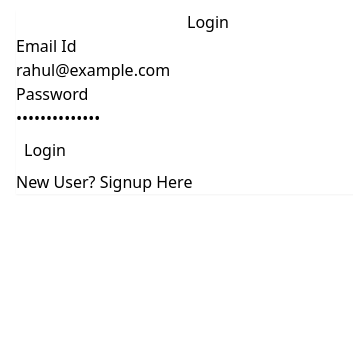
Test: Login component › Should display error message on signup failure
Switch to Signup form
Click the text "New User? Signup Here": (104, 182) [16,171,192,193]
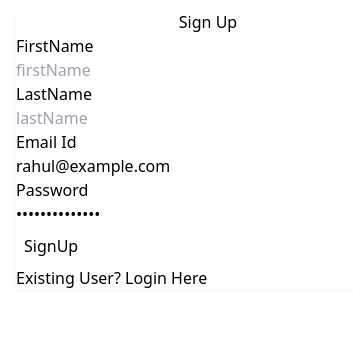
In the field with placeholder "FirstName": (176, 70) [16,58,336,82], type "John"
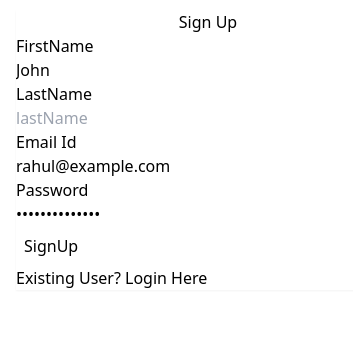
In the field with placeholder "LastName": (176, 118) [16,106,336,130], type "Doe"
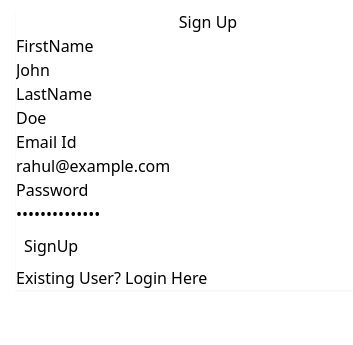
Replace the text in the field with placeholder "emailId" with "new@example.com": (176, 166) [16,154,336,178]
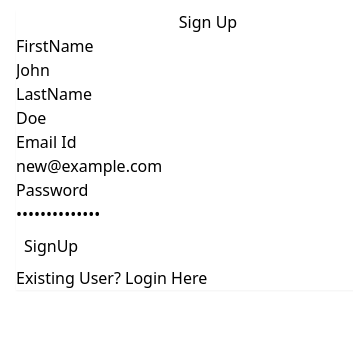
In the password field with placeholder "Enter your password": (176, 214) [16,202,336,226], type "NewPass@123"
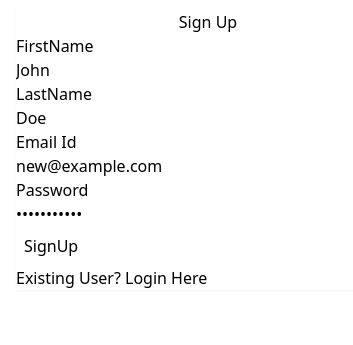
Click the button "SignUp": (51, 246) [24,234,78,258]
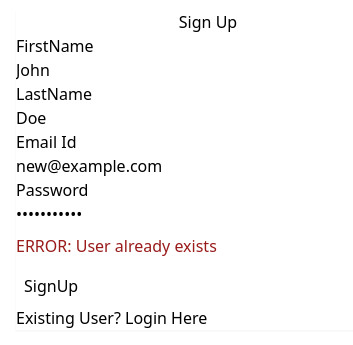
Check: the text "ERROR: User already exists" is shown, box [16,235,217,257]
